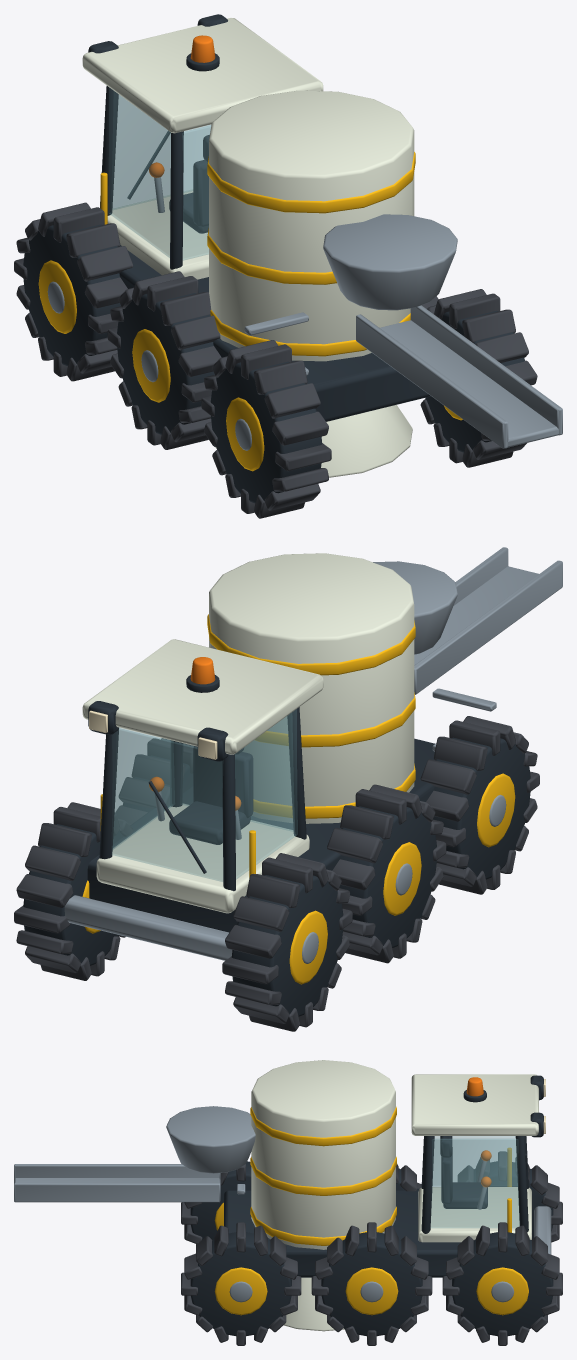
Rendered from mixer.glb.
3 renders of one model, top to bottom at view 1: azimuth 30°, elevation 25°; view 2: azimuth 150°, elevation 25°; view 3: azimuth 270°, elevation 25°, orthographic. The views are drawn at different scales.
Parts seen in each view (by area): view 1: mixing drum, cab sill.005, chute bed, chassis.002, side glazing.008, feed funnel, tread block.192, tread block.160, tread block.176, tread block.240, yellow band, tire.012 (+6 smaller); view 2: mixing drum, cab sill.005, side glazing.008, chassis.002, tread block.160, feed funnel, tread block.208, chute bed, tread block.176, tread block.192, tire.010, tire.011 (+8 smaller); view 3: mixing drum, cab sill.005, chassis.002, chute bed, side glazing.008, feed funnel, tire.014, tire.013, tire.015, tread block.208, tread block.240, tread block.224 (+13 smaller).
Boxes of the visible parts, x1,y1,x2,y2 form: mixing drum: (209,90,414,477); cab sill.005: (82,18,323,279); chute bed: (356,305,562,448); chassis.002: (88,14,430,421); side glazing.008: (108,88,211,260); feed funnel: (154,177,457,375); tread block.192: (201,340,331,518); tread block.160: (14,202,133,381); tread block.176: (107,271,221,449); tread block.240: (420,289,537,467); yellow band: (207,152,415,356); tire.012: (210,361,322,503); mixing drum: (209,553,414,823); cab sill.005: (82,639,323,913); side glazing.008: (111,709,297,881); chassis.002: (87,701,434,932); tread block.160: (222,853,352,1031); feed funnel: (64,561,496,960); tread block.208: (14,802,132,980); chute bed: (414,547,562,694); tread block.176: (327,784,446,963); tread block.192: (420,716,539,894); tire.010: (231,875,343,1016); tire.011: (339,806,436,947); mixing drum: (251,1060,395,1331); cab sill.005: (411,1074,538,1242); chassis.002: (224,1075,543,1277); chute bed: (14,1164,220,1202); side glazing.008: (430,1136,519,1227); feed funnel: (166,1106,551,1254); tire.014: (321,1232,422,1336); tire.013: (452,1232,553,1336); tire.015: (190,1232,291,1336); tread block.208: (442,1222,562,1345); tread block.240: (181,1222,301,1345); tread block.224: (311,1222,432,1345).
Bounding box in the file's own units: 3 × 3.9 × 7.98.
